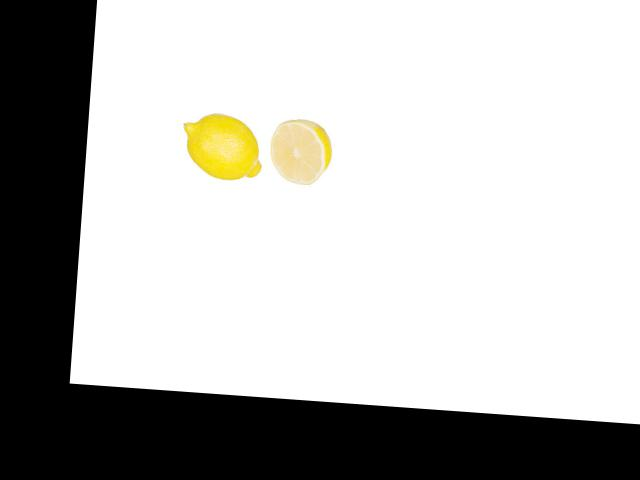lemon: (182, 111, 266, 183)
